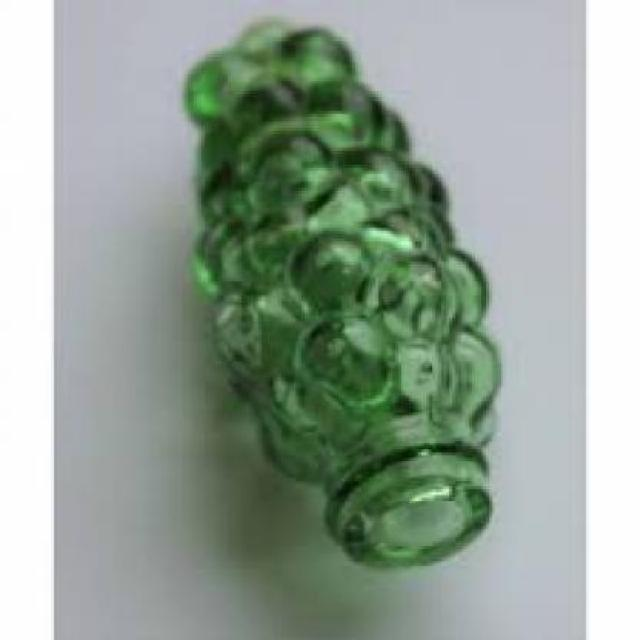kaca: (182, 17, 496, 569)
